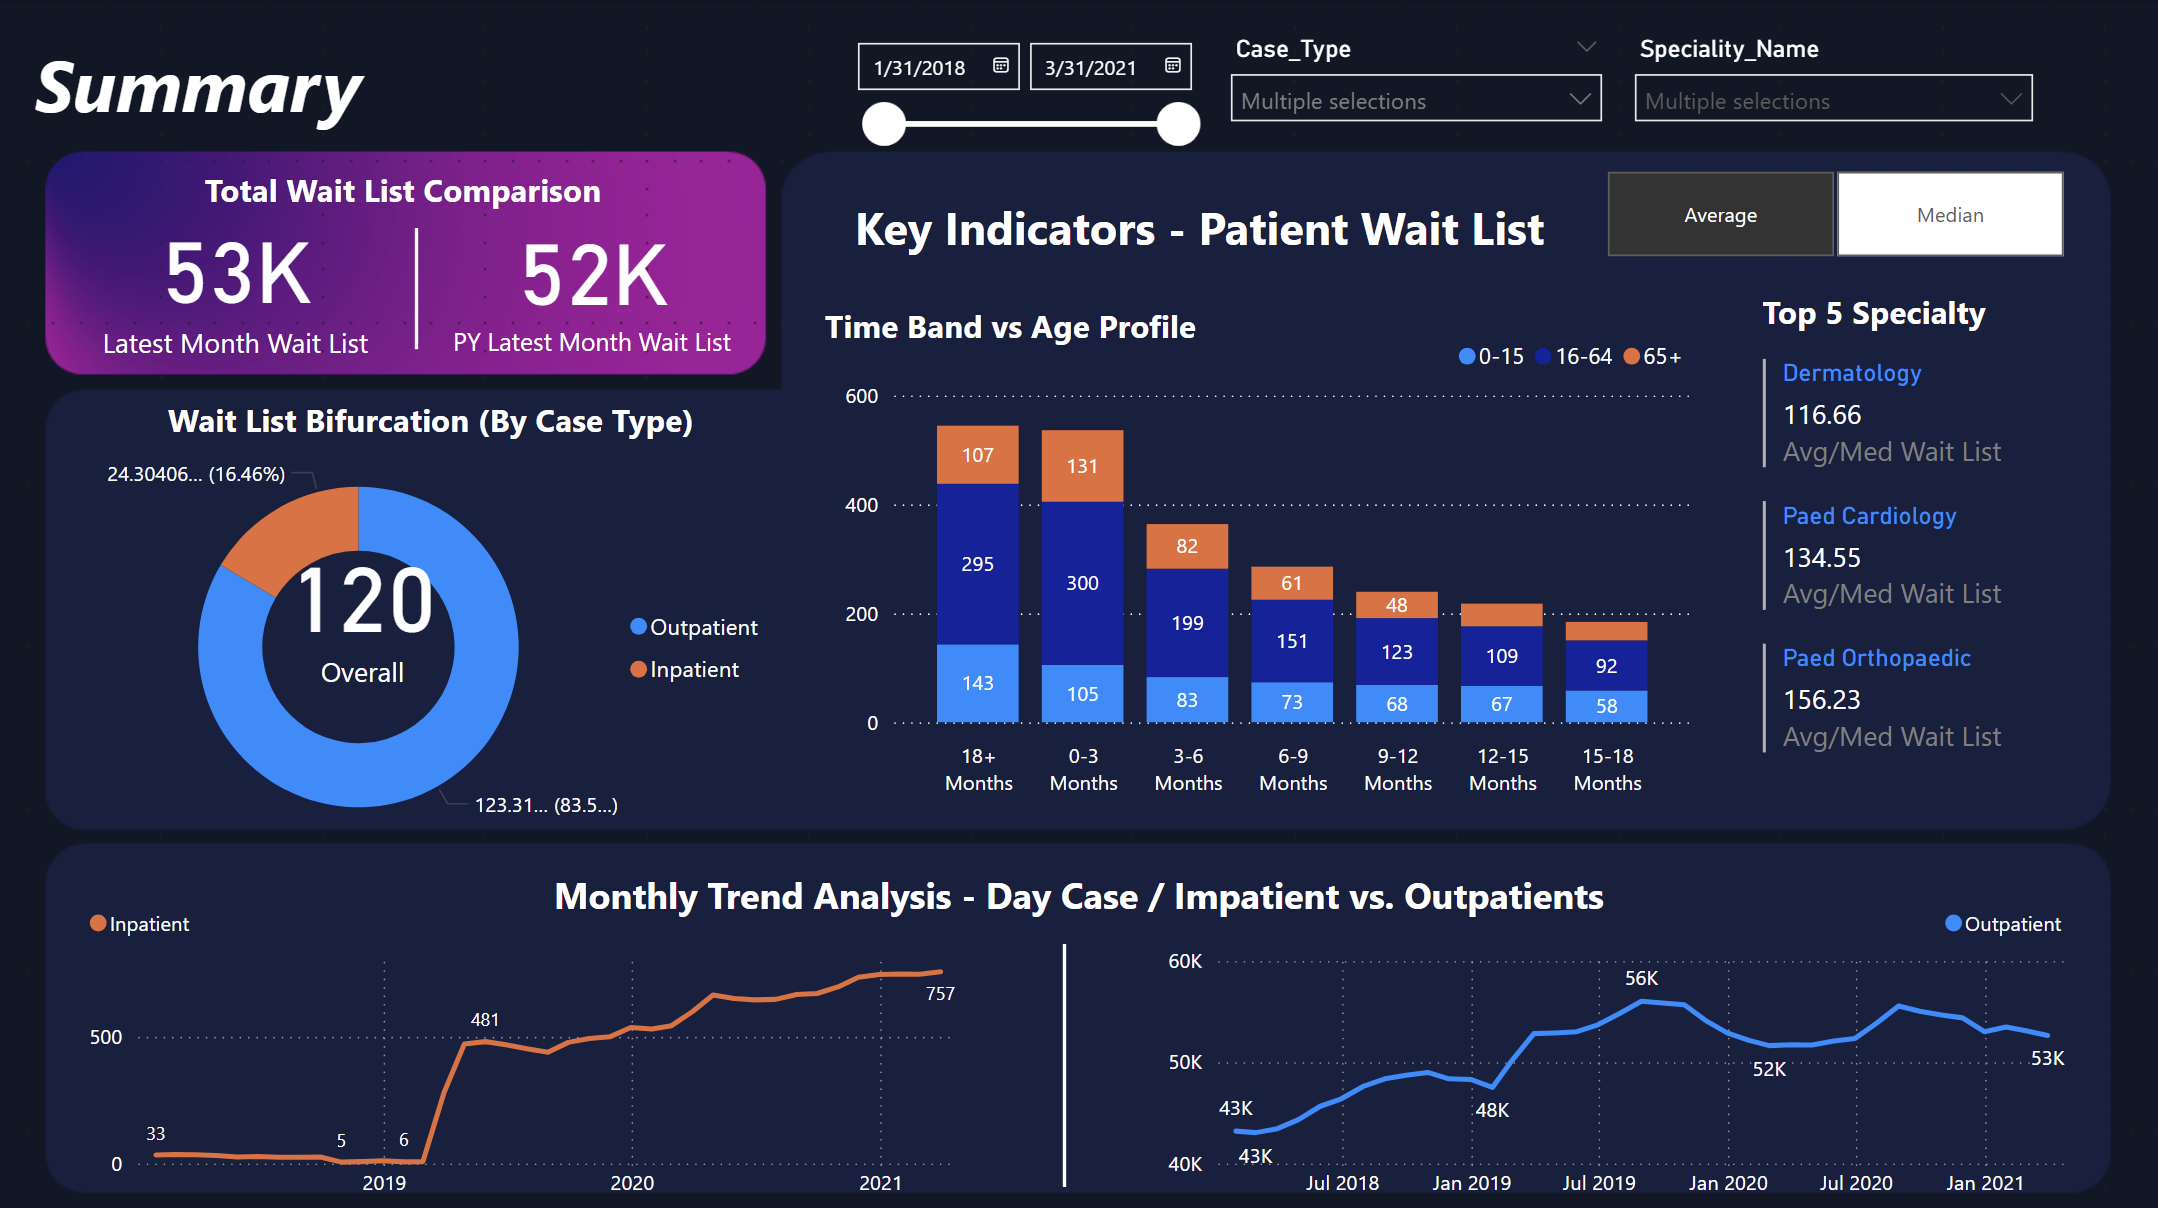

The page's visual inventory and layout, read from the dashboard file:
{"tool":"powerbi","page":{"name":"Summary","canvas":[1280,720],"ordinal":0},"visuals":[{"type":"card","fields":{"Values":["All_Data.Latest Month Wait List"]},"box":[48,120,184,96],"z":0},{"type":"card","fields":{"Values":["All_Data.PY Latest Month Wait List"]},"box":[256,120,192,96],"z":1000},{"type":"slicer","fields":{"Values":["Calculation Method.Calc Method"]},"box":[928,96,320,64],"z":2000},{"type":"donutChart","fields":{"Category":["All_Data.Case_Type"],"Y":["All_Data.Avg/Med Wait List"]},"box":[64,224,400,288],"z":3000},{"type":"columnChart","fields":{"Y":["All_Data.Avg/Med Wait List"],"Category":["All_Data.Time_Bands"],"Series":["All_Data.Age_Profile"]},"box":[496,192,512,288],"z":4000},{"type":"multiRowCard","fields":{"Values":["All_Data.Speciality_Name","All_Data.Avg/Med Wait List"]},"box":[1040,208,192,288],"z":5000},{"type":"lineChart","fields":{"Category":["All_Data.Archive_Date"],"Y":["Sum(All_Data.Total)"],"Series":["All_Data.Case_Type"]},"box":[48,528,528,192],"z":6000},{"type":"lineChart","fields":{"Category":["All_Data.Archive_Date"],"Y":["Sum(All_Data.Total)"],"Series":["All_Data.Case_Type"]},"box":[688,528,544,192],"z":7000},{"type":"slicer","fields":{"Values":["All_Data.Archive_Date"]},"box":[496,16,224,80],"z":8000},{"type":"slicer","fields":{"Values":["All_Data.Case_Type"]},"box":[720,16,240,64],"z":9000},{"type":"slicer","fields":{"Values":["All_Data.Speciality_Name"]},"box":[960,16,256,80],"z":10000},{"type":"textbox","box":[16,16,224,80],"z":11000},{"type":"shape","box":[224,136,48,72],"z":12000},{"type":"textbox","box":[32,96,416,48],"z":13000},{"type":"textbox","box":[480,176,240,48],"z":14000},{"type":"textbox","box":[1040,168,160,40],"z":15000},{"type":"shape","box":[608,560,48,144],"z":16000},{"type":"textbox","box":[304,512,672,48],"z":17000},{"type":"card","fields":{"Values":["All_Data.Avg/Med Wait List"]},"box":[160,304,112,112],"z":18000},{"type":"textbox","box":[480,112,464,48],"z":19000}]}

Visuals, with their boxes in screenshot pixels (x1, y1, x2, y2), scaled from the page's 1280x720 canvas onto the 2158x1208 screenshot:
card - All_Data.Latest Month Wait List: 81/201/391/362
card - All_Data.PY Latest Month Wait List: 432/201/755/362
slicer - Calculation Method.Calc Method: 1565/161/2104/268
donutChart - All_Data.Case_Type x All_Data.Avg/Med Wait List: 108/376/782/859
columnChart - All_Data.Avg/Med Wait List x All_Data.Time_Bands: 836/322/1699/805
multiRowCard - All_Data.Speciality_Name x All_Data.Avg/Med Wait List: 1753/349/2077/832
lineChart - All_Data.Archive_Date x Sum(All_Data.Total): 81/886/971/1207
lineChart - All_Data.Archive_Date x Sum(All_Data.Total): 1160/886/2077/1207
slicer - All_Data.Archive_Date: 836/27/1214/161
slicer - All_Data.Case_Type: 1214/27/1618/134
slicer - All_Data.Speciality_Name: 1618/27/2050/161
textbox: 27/27/405/161
shape: 378/228/459/349
textbox: 54/161/755/242
textbox: 809/295/1214/376
textbox: 1753/282/2023/349
shape: 1025/940/1106/1181
textbox: 513/859/1645/940
card - All_Data.Avg/Med Wait List: 270/510/459/698
textbox: 809/188/1592/268
